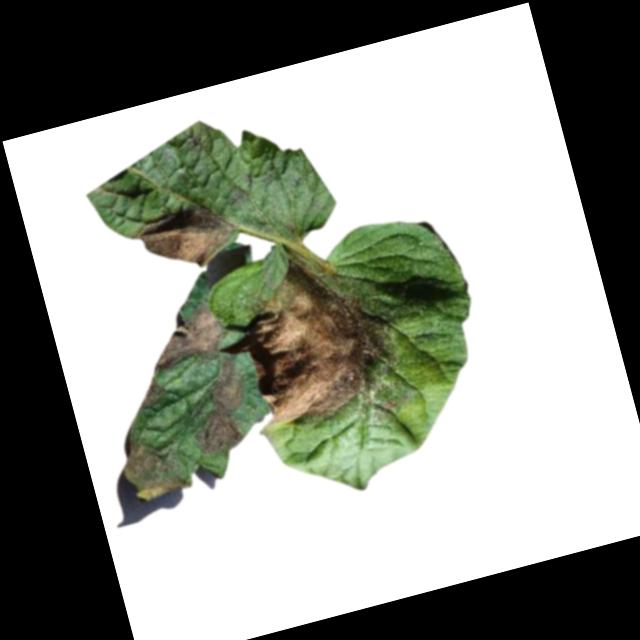Late_blight: (224, 236, 405, 433), (129, 192, 245, 281), (176, 353, 259, 459), (110, 424, 195, 509), (148, 296, 234, 373), (132, 374, 168, 412)
